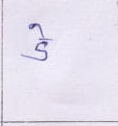e_matra: (29, 23, 51, 37)
